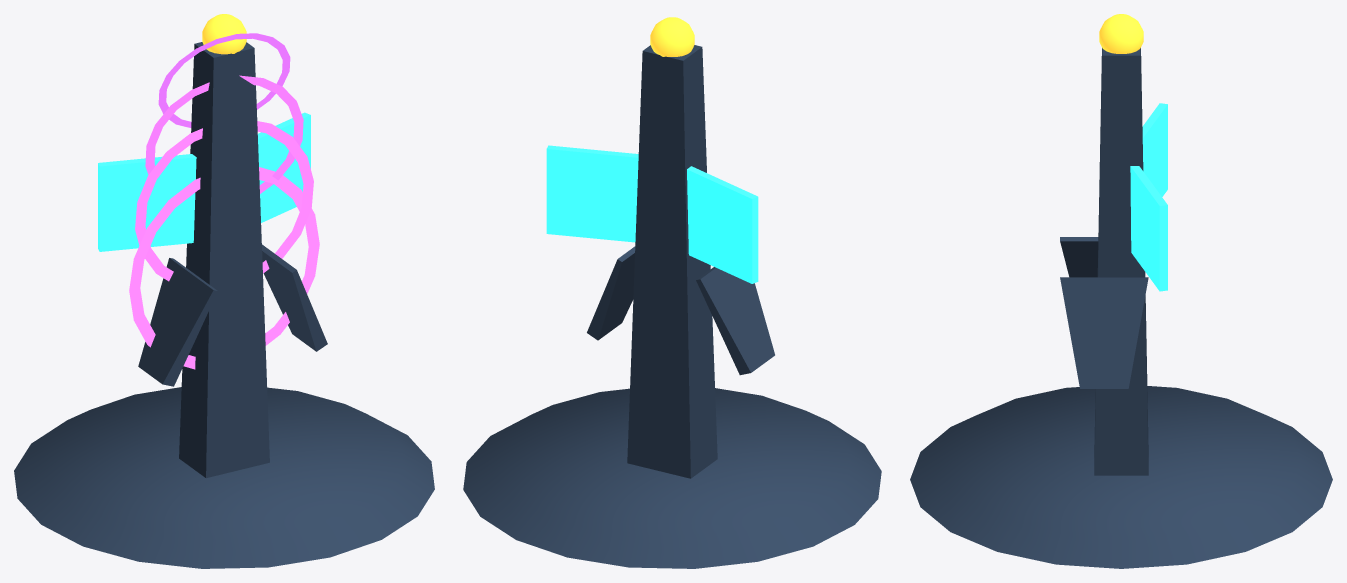
File: command-horizon-wayfinding-lod0.glb
The picture shows the model from 3 angles, left to right: view 1: azimuth 30°, elevation 25°; view 2: azimuth 150°, elevation 25°; view 3: azimuth 270°, elevation 25°; orthographic projection.
Parts seen in each view (by area): view 1: wayfinding-base, wayfinding-spine, wayfinding-panel--1, wayfinding-wing--1, wayfinding-ring-0, wayfinding-ring-1, wayfinding-wing-1, wayfinding-panel-1, wayfinding-ring-2, wayfinding-ring-3, wayfinding-beacon; view 2: wayfinding-base, wayfinding-spine, wayfinding-panel-1, wayfinding-panel--1, wayfinding-wing--1, wayfinding-wing-1, wayfinding-beacon; view 3: wayfinding-base, wayfinding-spine, wayfinding-wing-1, wayfinding-panel-1, wayfinding-panel--1, wayfinding-beacon, wayfinding-wing--1.
Part boxes in pixels (box(x1,y1,x2,y2)): wayfinding-base: box(14, 387, 434, 568); wayfinding-spine: box(179, 42, 269, 478); wayfinding-panel--1: box(98, 154, 196, 251); wayfinding-wing--1: box(138, 258, 217, 386); wayfinding-ring-0: box(129, 167, 319, 369); wayfinding-ring-1: box(135, 121, 313, 281); wayfinding-wing-1: box(262, 244, 327, 351); wayfinding-panel-1: box(257, 112, 310, 222); wayfinding-ring-2: box(145, 75, 303, 193); wayfinding-ring-3: box(158, 33, 290, 127); wayfinding-beacon: box(202, 14, 246, 54); wayfinding-base: box(463, 388, 881, 568); wayfinding-spine: box(627, 45, 717, 478); wayfinding-panel-1: box(546, 145, 638, 242); wayfinding-panel--1: box(687, 166, 758, 283); wayfinding-wing--1: box(696, 267, 774, 375); wayfinding-wing-1: box(587, 246, 635, 340); wayfinding-beacon: box(650, 17, 694, 56); wayfinding-base: box(910, 386, 1332, 568); wayfinding-spine: box(1094, 48, 1148, 475); wayfinding-wing-1: box(1060, 277, 1148, 388); wayfinding-panel-1: box(1130, 166, 1167, 291); wayfinding-panel--1: box(1142, 103, 1167, 196); wayfinding-beacon: box(1099, 14, 1143, 53); wayfinding-wing--1: box(1060, 237, 1098, 277).
Bounding box in the file's own units: 2.96 × 3.58 × 2.96.
